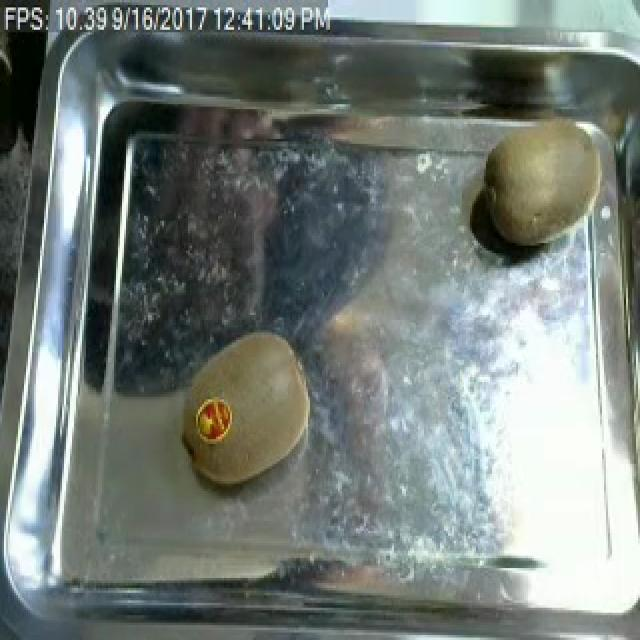Fruit: (180, 320, 320, 496), (470, 104, 620, 258)
